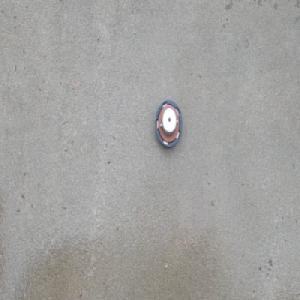FuelCap: (153, 98, 182, 150)
